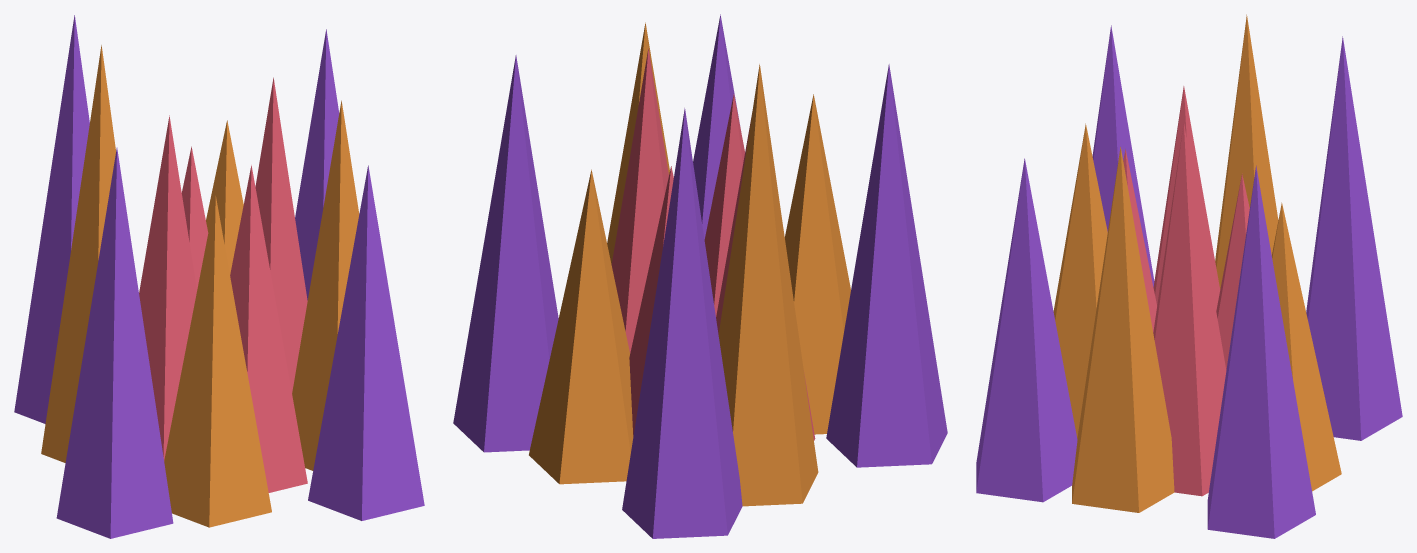
File: san-ho.glb
3 renders of one model, left to right at view 1: azimuth 30°, elevation 25°; view 2: azimuth 150°, elevation 25°; view 3: azimuth 270°, elevation 25°, orthographic. The views are drawn at different scales.
Visible parts, largest first — view 1: san-ho; view 2: san-ho; view 3: san-ho.
Boxes of the visible parts, x1,y1,x2,y2 form: san-ho: (14, 15, 424, 538); san-ho: (453, 14, 947, 538); san-ho: (976, 14, 1402, 538).
Bounding box in the file's own units: 1.3 × 1.3 × 1.28.
